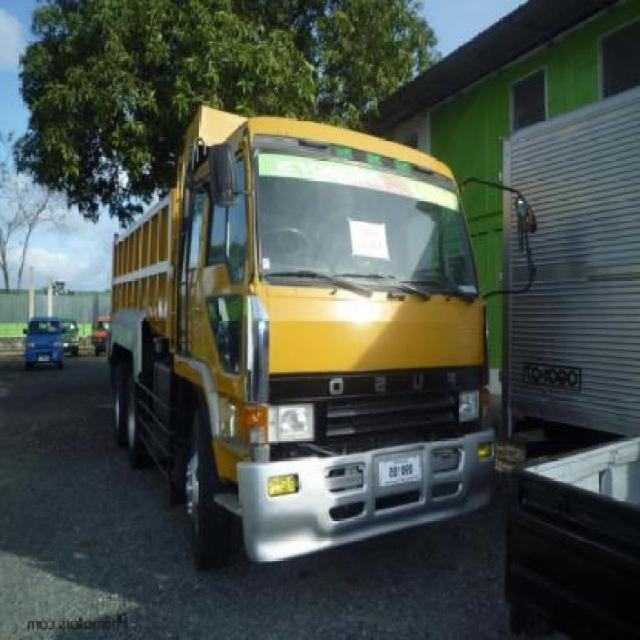truck: (107, 101, 544, 567)
